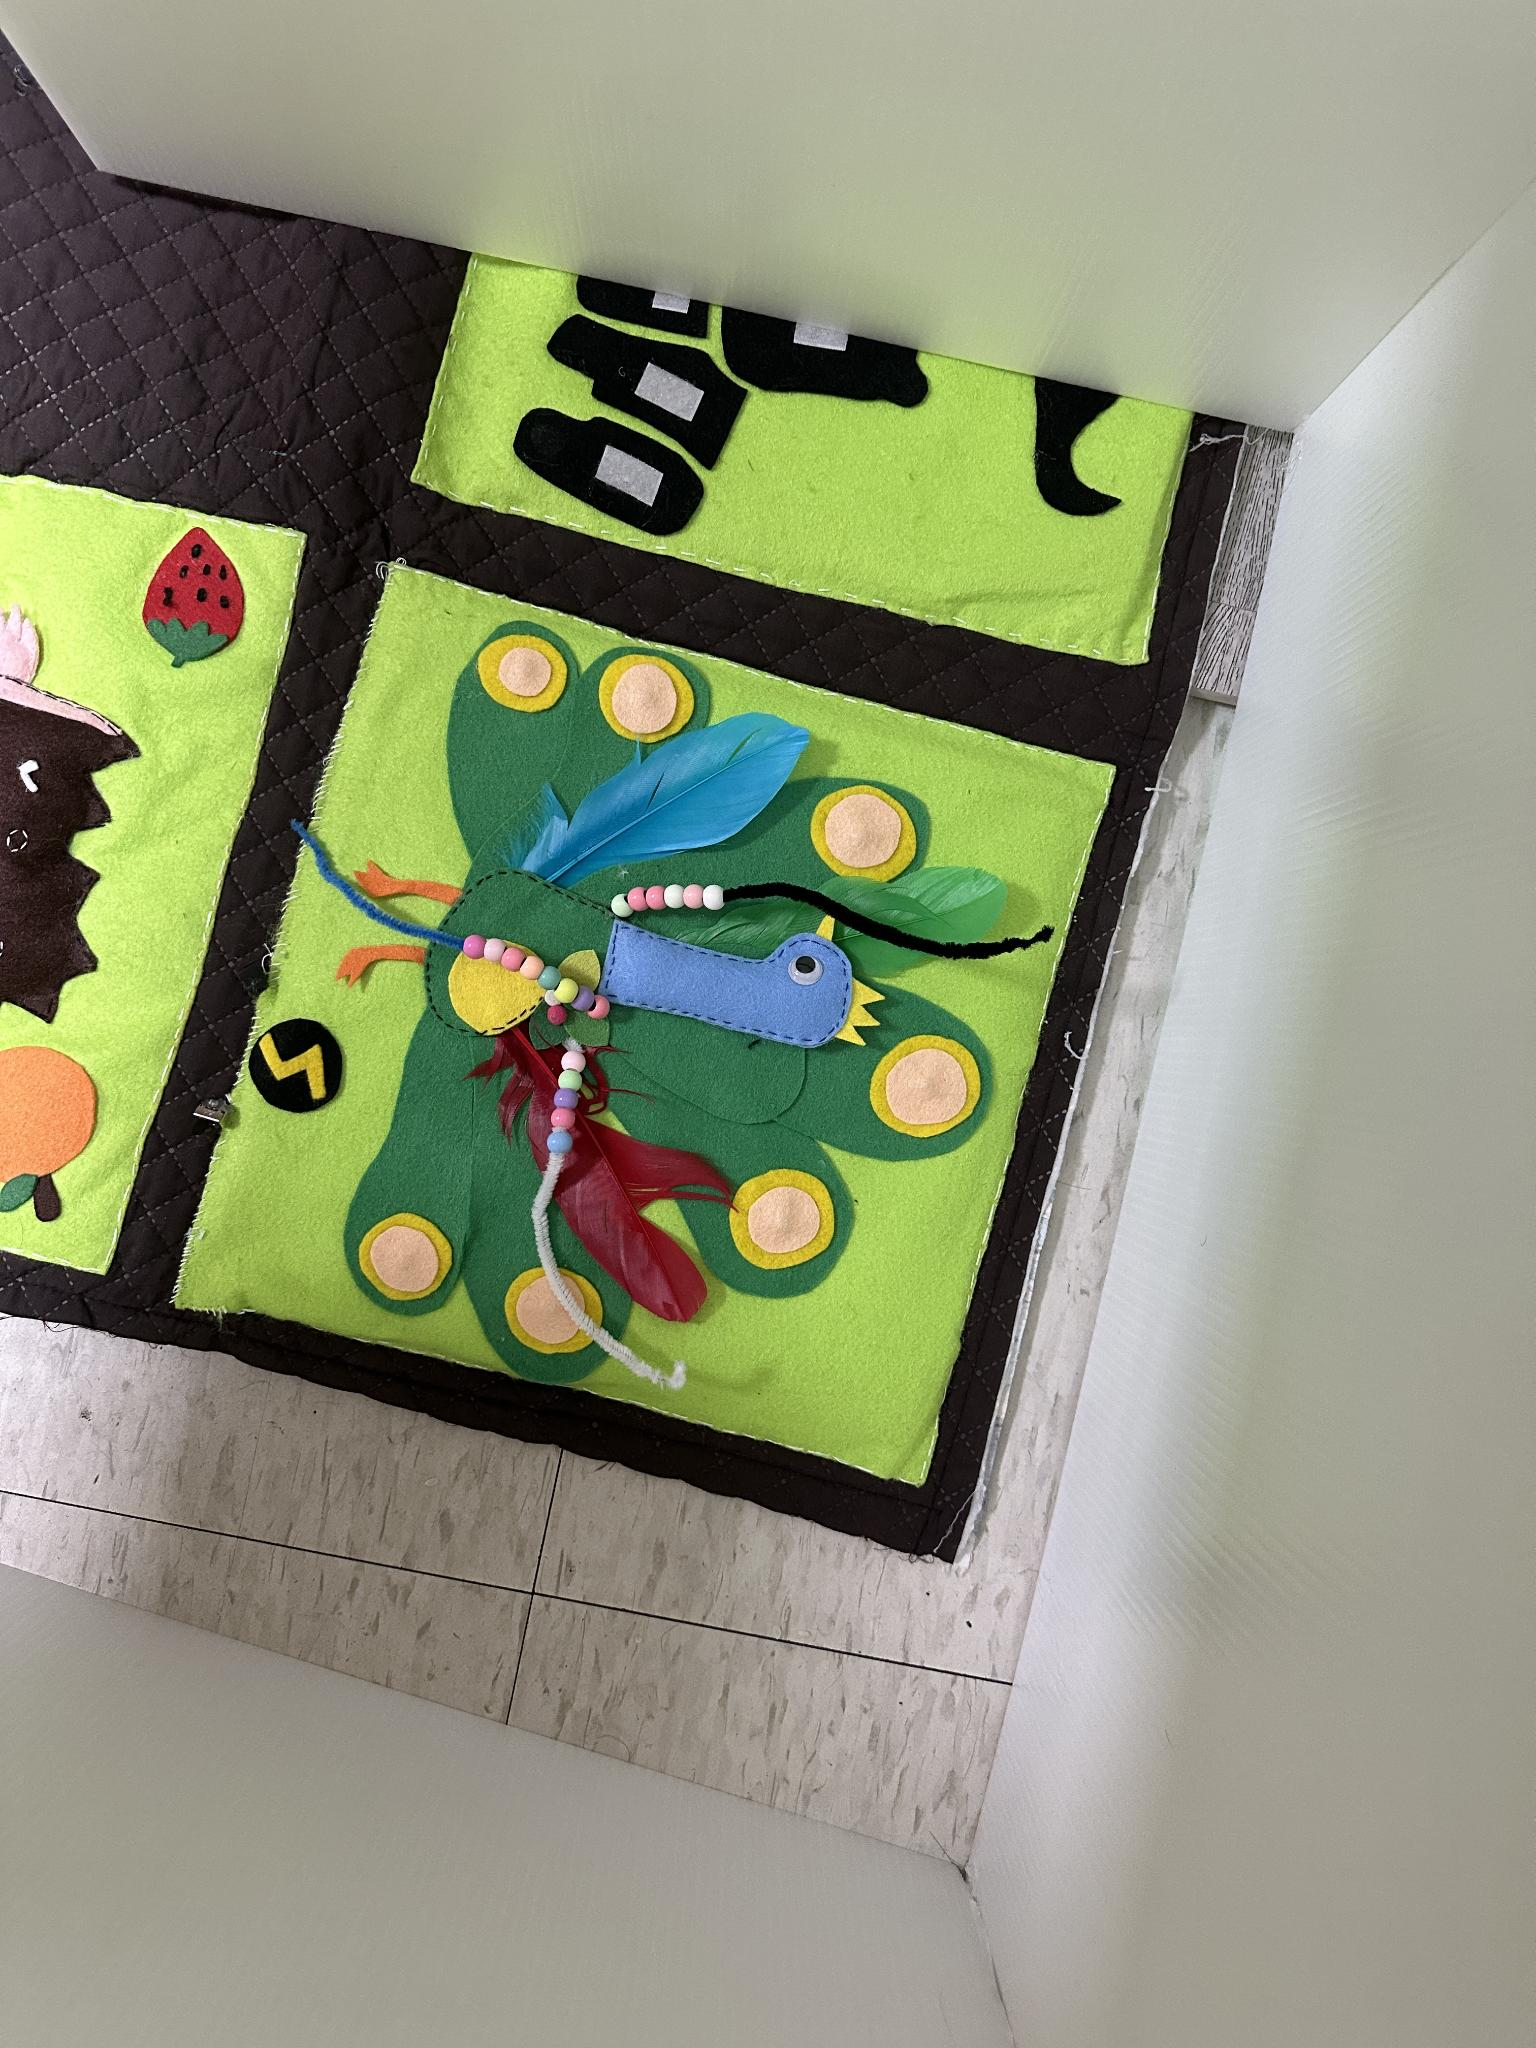bead: (555, 977, 578, 1005), (500, 947, 523, 972), (553, 1089, 579, 1111), (703, 884, 724, 911), (482, 937, 505, 961), (537, 964, 558, 990), (573, 985, 594, 1011), (589, 993, 608, 1021), (521, 953, 541, 979), (610, 895, 629, 921), (645, 884, 665, 910), (549, 1132, 573, 1151), (629, 885, 645, 913), (465, 934, 484, 956), (665, 884, 684, 906), (550, 1109, 574, 1127), (565, 1051, 584, 1071), (686, 884, 700, 908), (561, 1071, 581, 1089)
